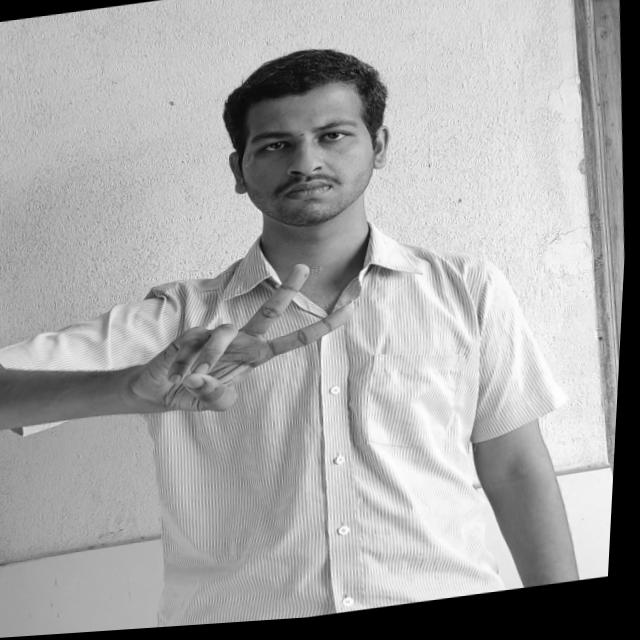Victory: (125, 259, 388, 430)
